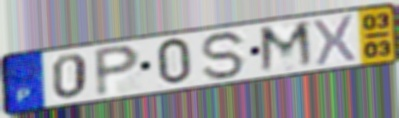0: (153, 36, 195, 89), (50, 52, 89, 102)
M: (257, 18, 317, 76)
P: (92, 43, 144, 99)
S: (199, 29, 250, 82)
X: (311, 12, 358, 68)
